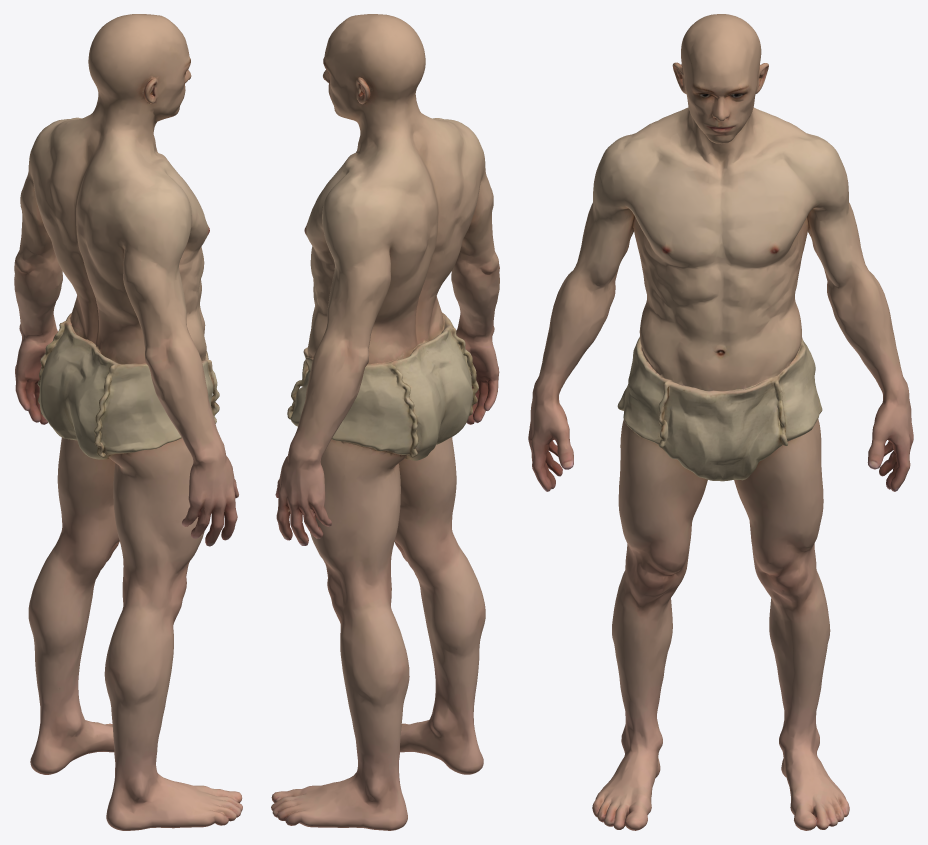
Rendered from character.glb.
The picture shows the model from 3 angles, left to right: view 1: azimuth 30°, elevation 25°; view 2: azimuth 150°, elevation 25°; view 3: azimuth 270°, elevation 25°; orthographic projection.
Visible parts, largest first — view 1: tripo_node_4af9d0be-50d9-4a7c-8514-6404e192f47f; view 2: tripo_node_4af9d0be-50d9-4a7c-8514-6404e192f47f; view 3: tripo_node_4af9d0be-50d9-4a7c-8514-6404e192f47f.
Boxes of the visible parts, x1,y1,x2,y2 form: tripo_node_4af9d0be-50d9-4a7c-8514-6404e192f47f: (14,14,242,830); tripo_node_4af9d0be-50d9-4a7c-8514-6404e192f47f: (271,14,499,830); tripo_node_4af9d0be-50d9-4a7c-8514-6404e192f47f: (528,14,913,830).
Bounding box in the file's own units: 0.1922 × 1 × 0.4445.
Materials: 1 (1 with a texture image).
